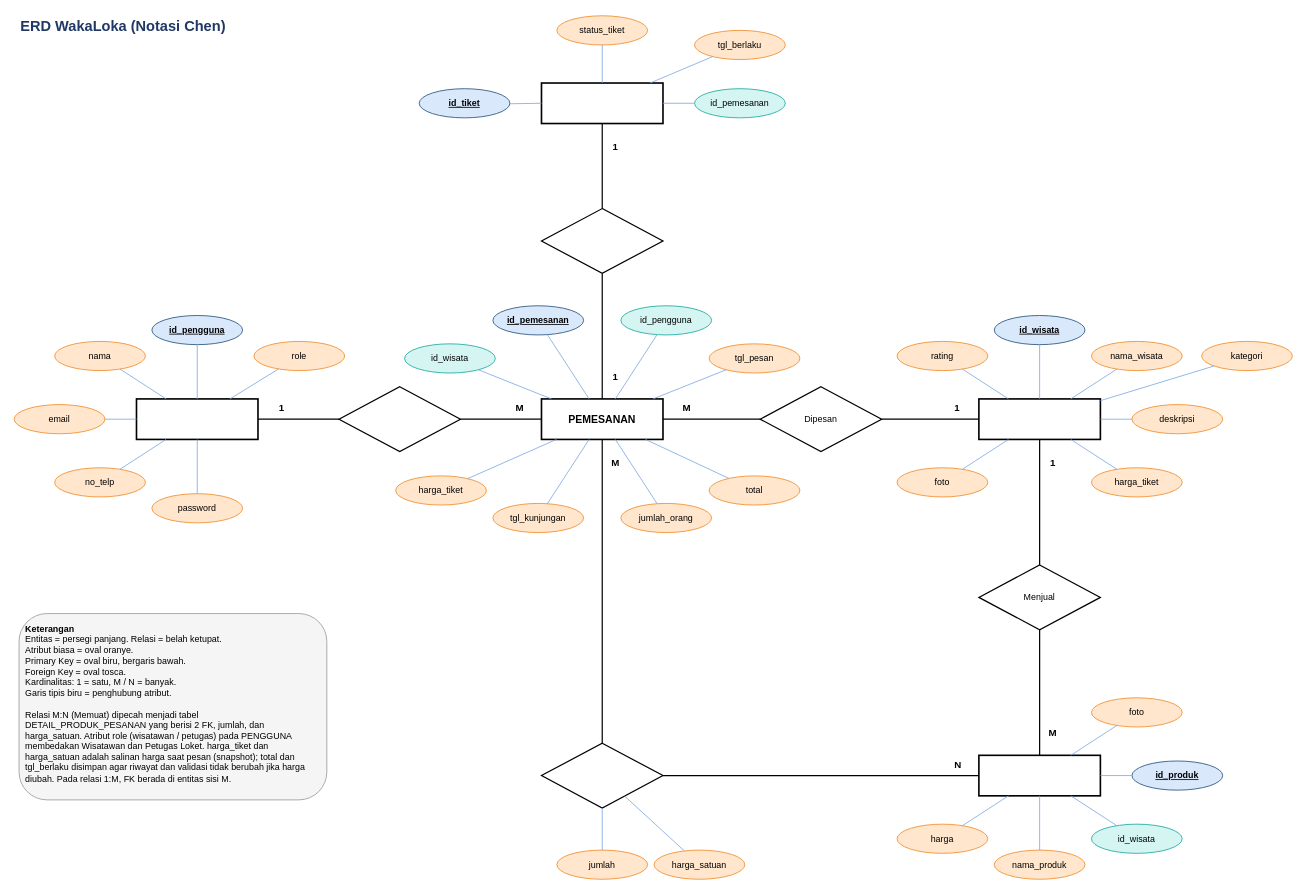
This 1307x893 diagram has some shape labels left out. The shapes that lost their labels are listed below. From the top down, each one's centre as x and y in pixels, then its label:
At [601,103]: "TIKET".
At [602,241]: "Menghasilkan".
At [196,419]: "PENGGUNA".
At [399,419]: "Melakukan".
At [1039,419]: "WISATA".
At [602,775]: "Memuat".
At [1039,775]: "PRODUK_UMKM".
